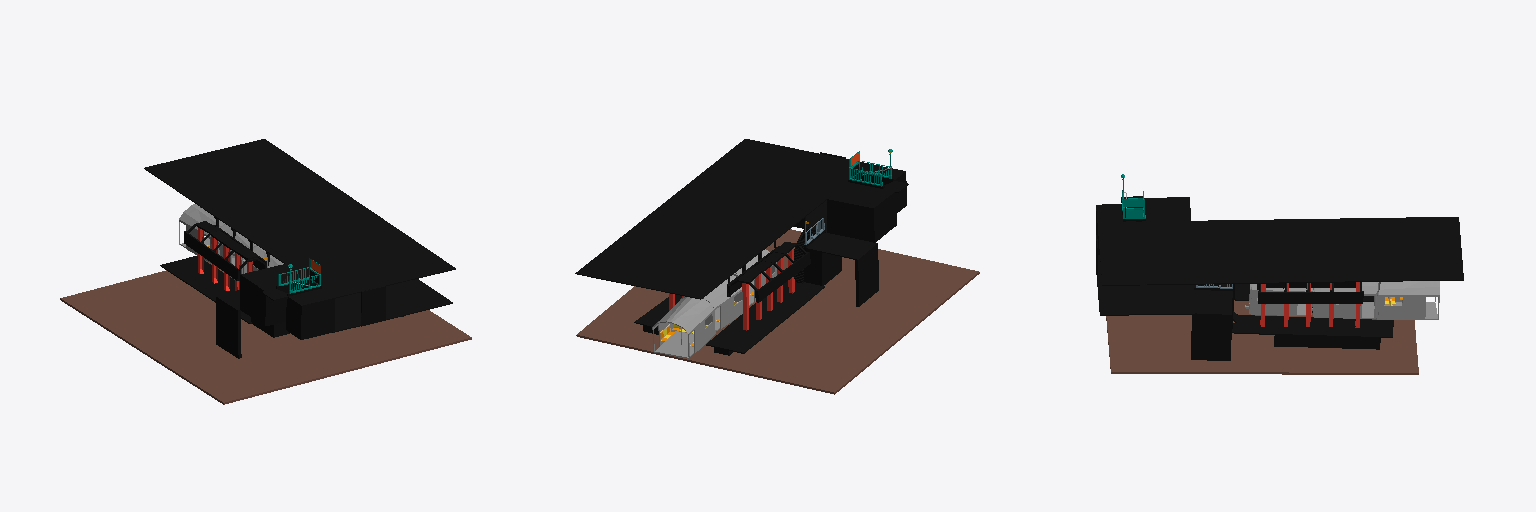
The picture shows the model from 3 angles: view 1: azimuth 30°, elevation 25°; view 2: azimuth 150°, elevation 25°; view 3: azimuth 270°, elevation 25°; orthographic projection.
Parts seen in each view (by area): view 1: group[number redacted], group[number redacted], group[number redacted], group[number redacted], group[number redacted], group[number redacted]; view 2: group[number redacted], group[number redacted], group[number redacted], group[number redacted], group[number redacted], group[number redacted], group[number redacted], group[number redacted]; view 3: group[number redacted], group[number redacted], group[number redacted], group[number redacted], group[number redacted], group[number redacted], group[number redacted], group[number redacted].
Boxes of the visible parts, <box> form: group[number redacted]: <box>144,139,455,332</box>; group[number redacted]: <box>60,260,471,404</box>; group[number redacted]: <box>160,256,289,358</box>; group[number redacted]: <box>286,268,334,339</box>; group[number redacted]: <box>184,221,268,290</box>; group[number redacted]: <box>179,204,224,262</box>; group[number redacted]: <box>575,139,908,299</box>; group[number redacted]: <box>576,229,979,394</box>; group[number redacted]: <box>706,218,878,355</box>; group[number redacted]: <box>727,242,810,330</box>; group[number redacted]: <box>652,297,715,358</box>; group[number redacted]: <box>680,275,742,330</box>; group[number redacted]: <box>850,153,906,212</box>; group[number redacted]: <box>634,295,681,334</box>; group[number redacted]: <box>1096,191,1463,315</box>; group[number redacted]: <box>1106,300,1418,374</box>; group[number redacted]: <box>1191,284,1393,360</box>; group[number redacted]: <box>1257,282,1363,327</box>; group[number redacted]: <box>1374,281,1439,319</box>; group[number redacted]: <box>1313,282,1378,318</box>; group[number redacted]: <box>1249,284,1313,315</box>; group[number redacted]: <box>1096,178,1143,254</box>.
Bounding box in the file's own units: 5.4 × 2.37 × 6.56.